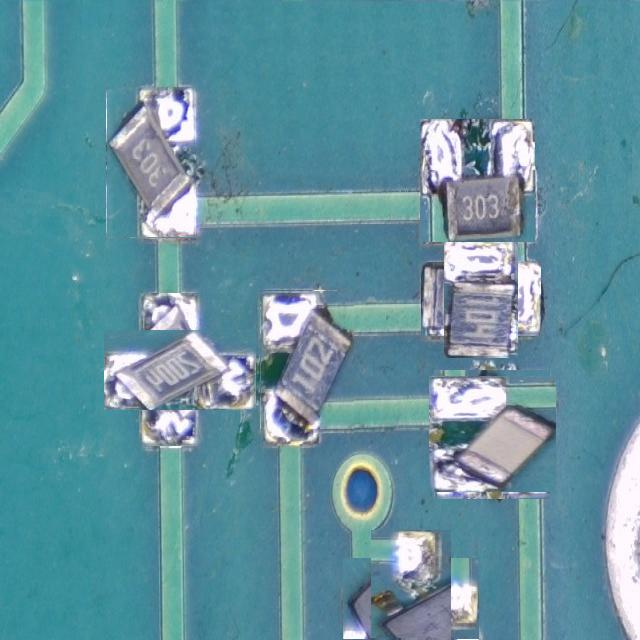Incorrect_installation: (428, 377, 556, 492), (260, 290, 354, 444), (420, 120, 535, 242), (107, 88, 195, 236), (104, 330, 256, 410), (371, 531, 451, 639), (444, 239, 517, 357)
